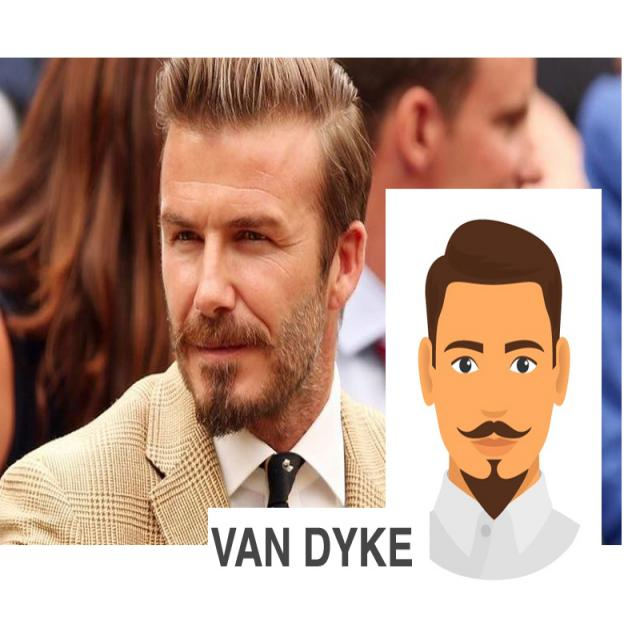beard: (173, 297, 325, 436), (462, 460, 529, 520), (458, 421, 533, 449)
hair: (154, 58, 374, 270), (426, 220, 563, 365)
